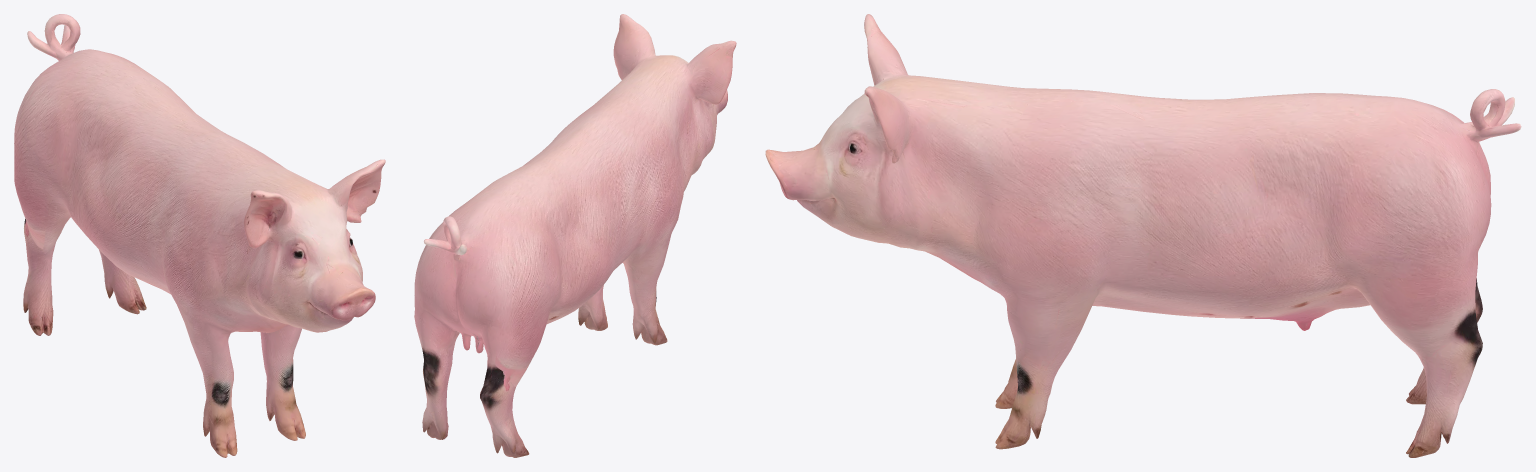
Rendered from pig.glb.
3 views of the same model, side by side, from view 1: azimuth 30°, elevation 25°; view 2: azimuth 150°, elevation 25°; view 3: azimuth 270°, elevation 25° (orthographic). The views are drawn at different scales.
Visible parts, largest first — view 1: Object_4; view 2: Object_4; view 3: Object_4.
Boxes of the visible parts, x1,y1,x2,y2 form: Object_4: (14, 14, 385, 457); Object_4: (414, 14, 736, 457); Object_4: (765, 14, 1521, 457).
Size of the model in its own units: 0.471 by 1.04 by 1.9.
1 material, 1 textured.
